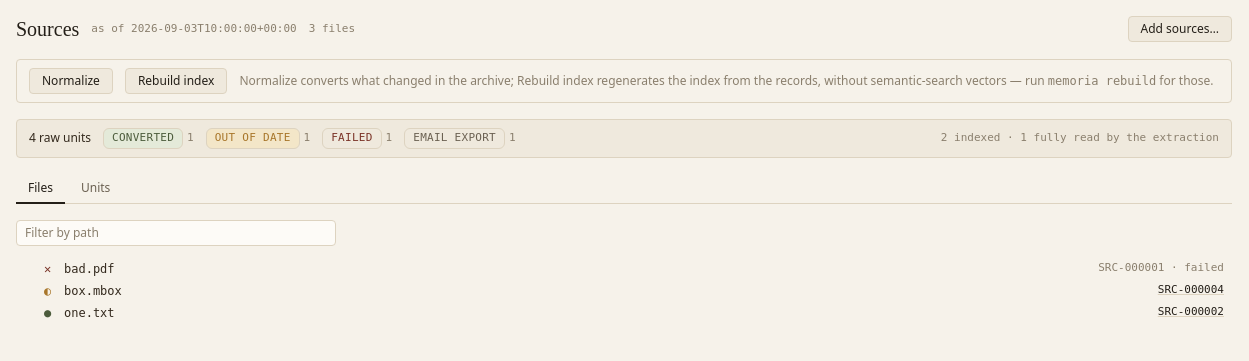
the Sources page › runs a pass, shows its report, and re-reads the status
This screenshot has width=1249, height=361.
Click the button "Normalize" at point(71, 81), box [29,68,113,94]
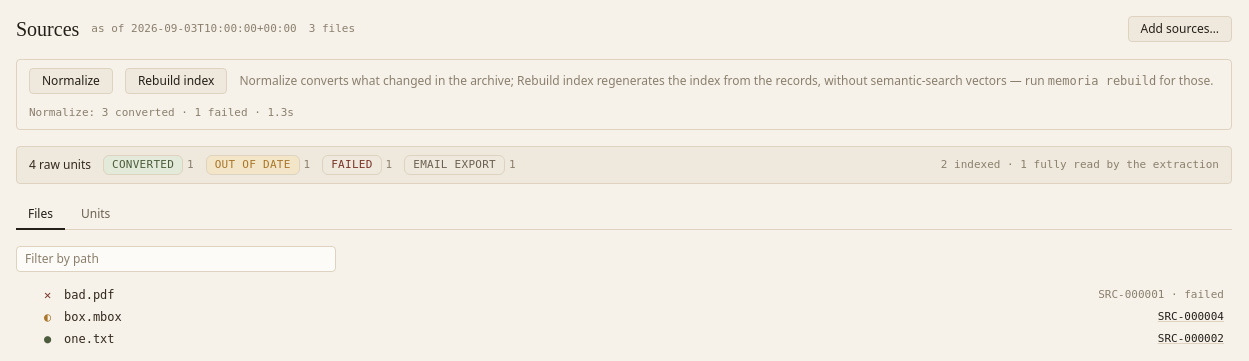
Expected: the message reads "Normalize: 3 converted · 1 failed · 1.3s", [29,106,294,119]
